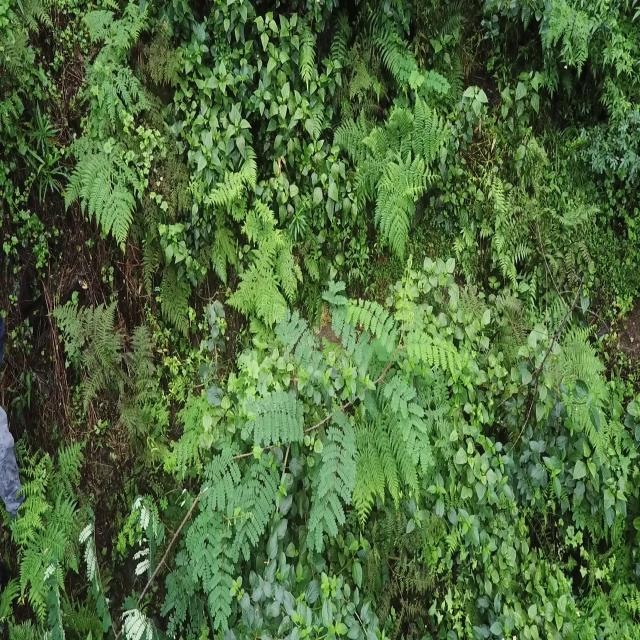Mysore-Thorn-Weed: (234, 271, 460, 550), (46, 437, 229, 640)
